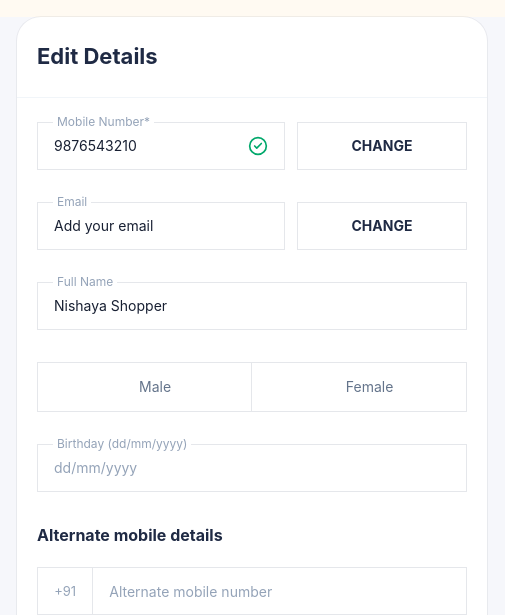
Test case: account mobile number accepts digits only and reports an invalid number
Click the button "CHANGE" next to "Mobile Number*".
click(382, 146)  # box [297,122,467,170]
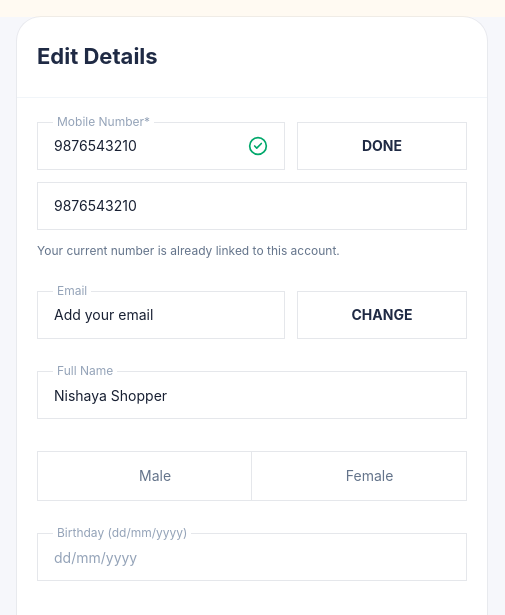
Replace the text in the field with placeholder "Enter mobile number" below "9876543210" with "12ab!34" at coordinates (252, 206), box [37,182,467,230]
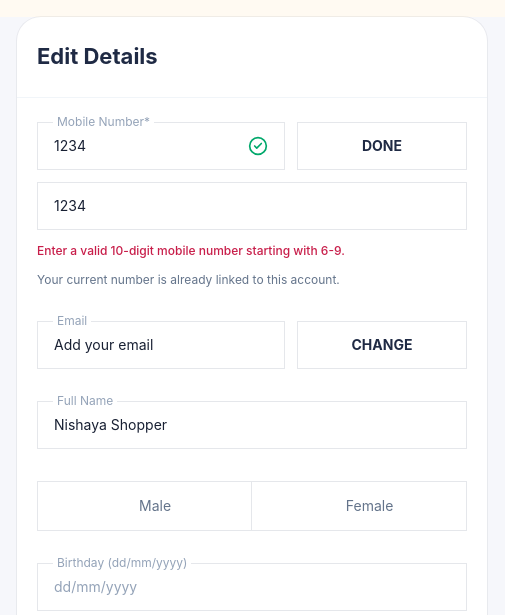
Check: the field with placeholder "Enter mobile number" below "1234" holds "1234"
Check: the text "Enter a valid 10-digit mobile number starting with 6-9." is shown, box [37,243,345,258]
Replace the text in the field with placeholder "Enter mobile number" below "1234" with "98765#43210abc" at coordinates (252, 206), box [37,182,467,230]
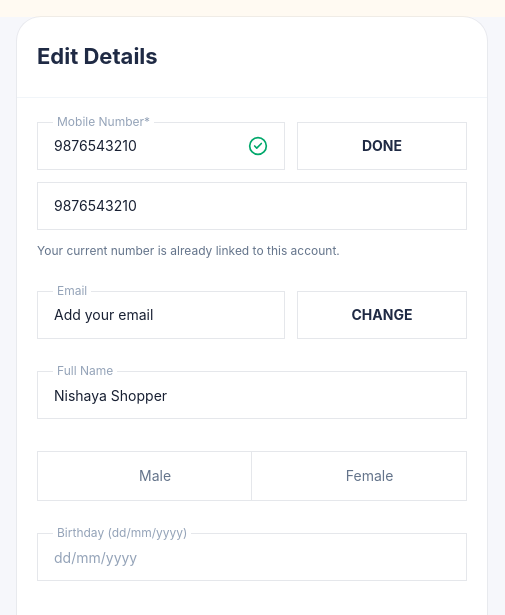
Check: the field with placeholder "Enter mobile number" below "9876543210" holds "9876543210", box [37,182,467,230]
Check: the text "Enter a valid 10-digit mobile number starting with 6-9." is gone
